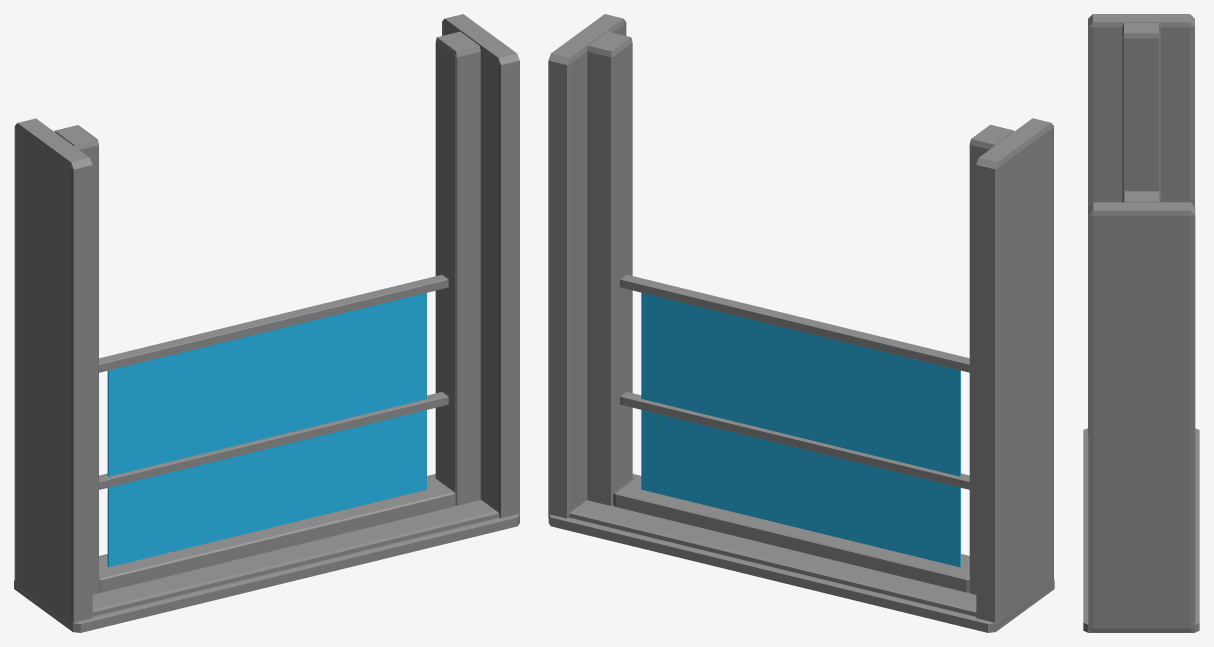
Rendered from SM_Wall2m.FBX.
The picture shows the model from 3 angles, left to right: view 1: azimuth 30°, elevation 25°; view 2: azimuth 150°, elevation 25°; view 3: azimuth 270°, elevation 25°; orthographic projection. The views are drawn at different scales.
Visible parts, largest first — view 1: Plane018; view 2: Plane018; view 3: Plane018.
Boxes of the visible parts, x1=… form: Plane018: x1=14, y1=14, x2=519, y2=632; Plane018: x1=548, y1=14, x2=1054, y2=632; Plane018: x1=1083, y1=14, x2=1199, y2=632.
Bounding box in the file's own units: 2.01 × 2.01 × 0.5011.
